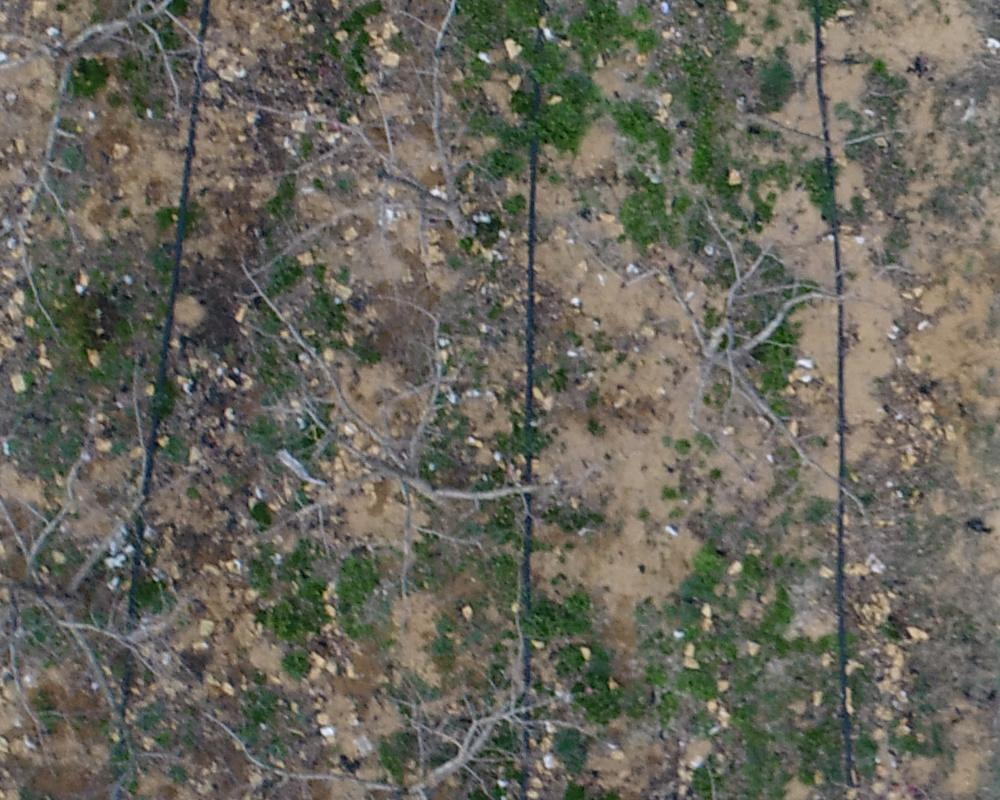apple: (222, 259, 570, 556), (620, 188, 900, 549), (10, 354, 238, 790), (197, 579, 630, 790), (249, 10, 565, 289), (10, 10, 350, 239)
